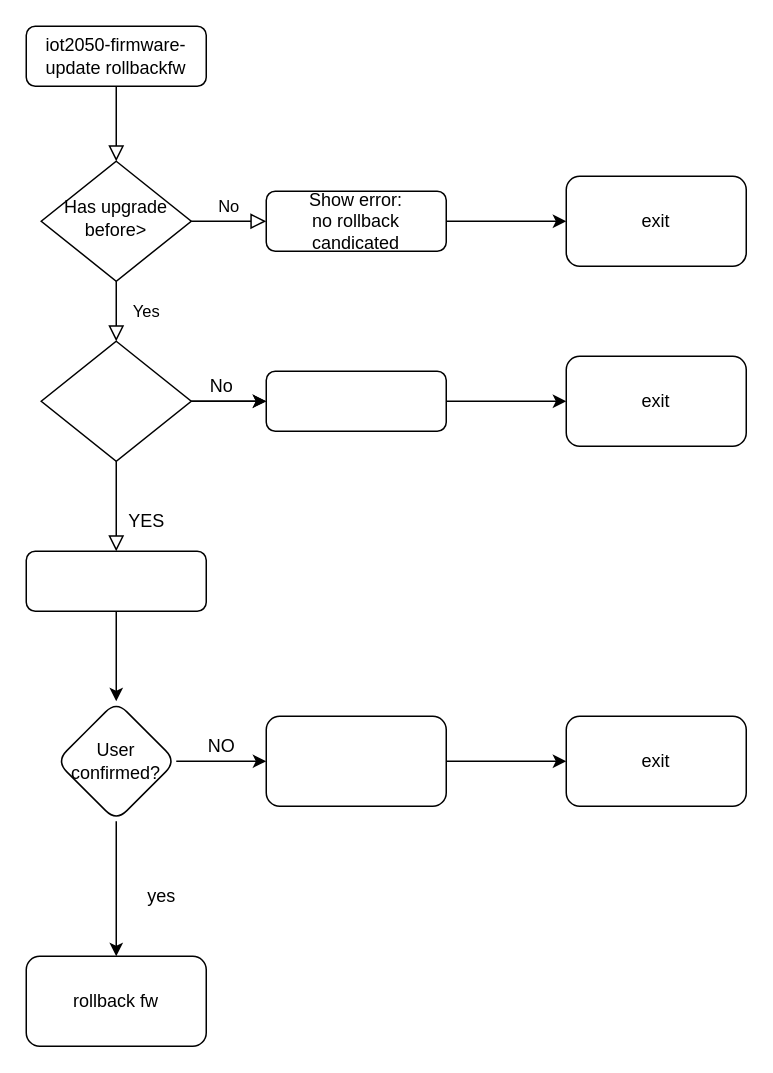
The diagram is 773 pixels wide and 1073 high, and some of its shapes have lost their labels. The shapes that lost their labels are listed below. From the top down, each one's box as (x1, y1, x2, y2) in pixels, then its label:
(40, 340, 191, 461): Read the fw from flash or filesystem
(265, 370, 446, 431): Show Error
(25, 550, 206, 611): Better to print the version info
(265, 715, 446, 806): show info
